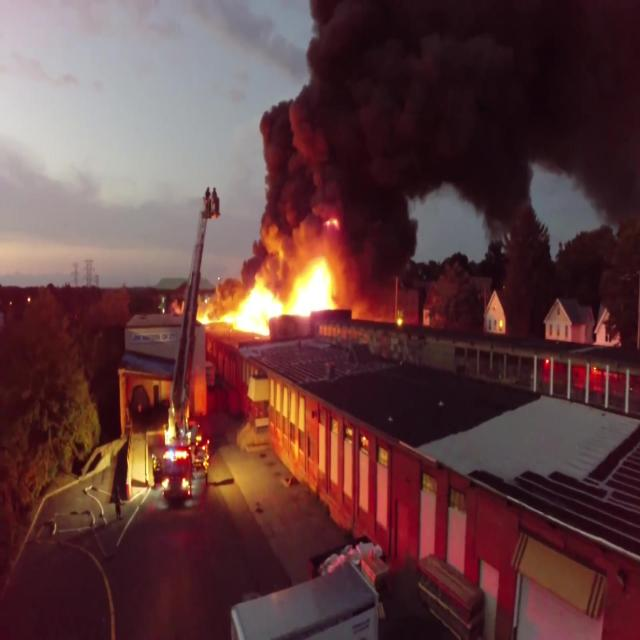Fire: (235, 252, 340, 339)
Smoke: (0, 5, 640, 616), (250, 2, 640, 292)
